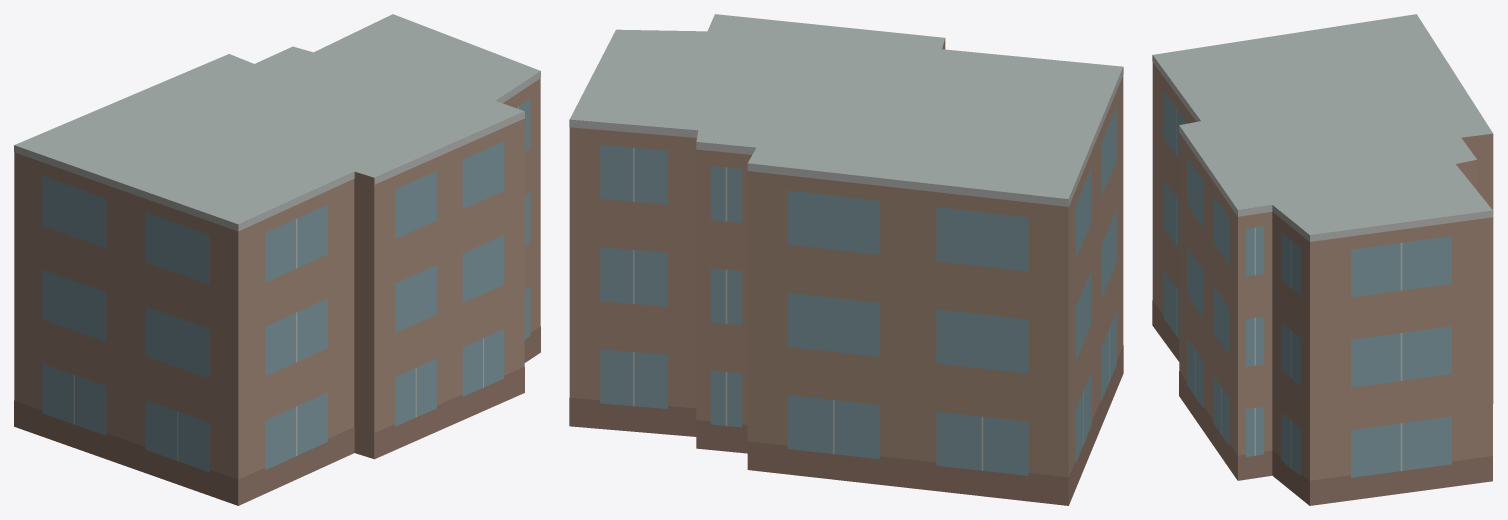
Rendered from survey-upis-32614486.glb.
3 renders of one model, left to right at view 1: azimuth 30°, elevation 25°; view 2: azimuth 150°, elevation 25°; view 3: azimuth 270°, elevation 25°, orthographic. The views are drawn at different scales.
Visible parts, largest first — view 1: survey-upis-32614486.tmp; view 2: survey-upis-32614486.tmp; view 3: survey-upis-32614486.tmp.
Part boxes in pixels (x1,y1,x2,y2): survey-upis-32614486.tmp: (14,14,540,505); survey-upis-32614486.tmp: (569,14,1123,505); survey-upis-32614486.tmp: (1152,14,1493,505).
Bounding box in the file's own units: 17 × 9.7 × 11.07.
